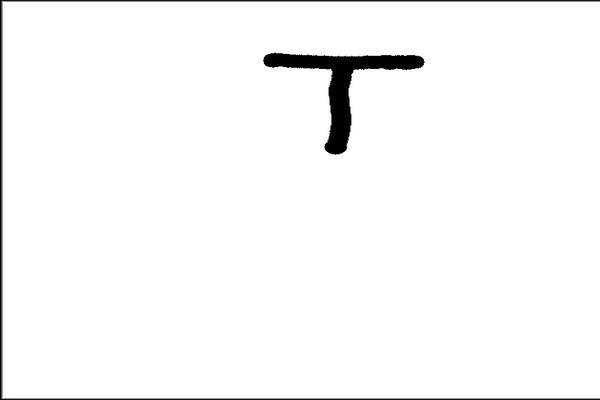T: (250, 43, 433, 152)
